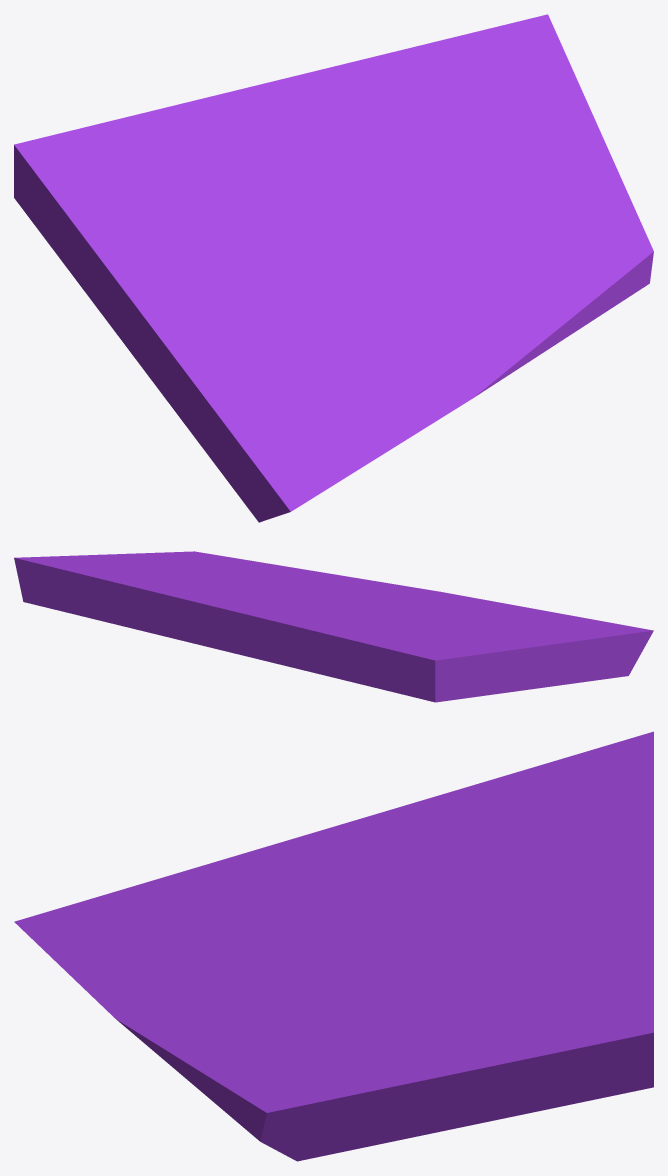
File: Window_151_0_chunks.fbx
3 renders of one model, top to bottom at view 1: azimuth 30°, elevation 25°; view 2: azimuth 150°, elevation 25°; view 3: azimuth 270°, elevation 25°, orthographic. The views are drawn at different scales.
Parts seen in each view (by area): view 1: Window_151_0_8, Window_151_0_3, Window_151_0_28, Window_151_0_30, Window_151_0_29, Window_151_0_15, Window_151_0_17, Window_151_0_25, Window_151_0_20, Window_151_0_6, Window_151_0_16, Window_151_0_26 (+10 smaller); view 2: Window_151_0_30, Window_151_0_28, Window_151_0_15, Window_151_0_33, Window_151_0_25, Window_151_0_32, Window_151_0_8, Window_151_0_3, Window_151_0_29, Window_151_0_17, Window_151_0_14, Window_151_0_20 (+13 smaller); view 3: Window_151_0_28, Window_151_0_3, Window_151_0_8, Window_151_0_4, Window_151_0_29, Window_151_0_30, Window_151_0_6, Window_151_0_20, Window_151_0_17, Window_151_0_16, Window_151_0_25, Window_151_0_26 (+10 smaller).
Part boxes in pixels (<box>): Window_151_0_8: <box>221,225,493,350</box>; Window_151_0_3: <box>419,94,612,265</box>; Window_151_0_28: <box>441,14,583,167</box>; Window_151_0_30: <box>203,53,387,160</box>; Window_151_0_29: <box>360,40,486,164</box>; Window_151_0_15: <box>62,208,201,443</box>; Window_151_0_17: <box>160,277,280,426</box>; Window_151_0_25: <box>14,147,182,246</box>; Window_151_0_20: <box>256,393,448,517</box>; Window_151_0_6: <box>500,234,646,352</box>; Window_151_0_16: <box>77,210,304,313</box>; Window_151_0_26: <box>344,163,502,244</box>; Window_151_0_30: <box>140,588,327,663</box>; Window_151_0_28: <box>14,555,196,631</box>; Window_151_0_15: <box>467,639,583,691</box>; Window_151_0_33: <box>297,622,436,687</box>; Window_151_0_25: <box>366,632,474,702</box>; Window_151_0_32: <box>276,622,377,682</box>; Window_151_0_8: <box>316,585,454,627</box>; Window_151_0_3: <box>76,554,322,593</box>; Window_151_0_29: <box>99,576,252,611</box>; Window_151_0_17: <box>460,621,602,657</box>; Window_151_0_14: <box>444,614,616,682</box>; Window_151_0_20: <box>469,597,653,654</box>; Window_151_0_28: <box>444,972,653,1109</box>; Window_151_0_3: <box>301,975,544,1119</box>; Window_151_0_8: <box>178,859,460,1027</box>; Window_151_0_4: <box>238,1061,499,1161</box>; Window_151_0_29: <box>456,929,653,1008</box>; Window_151_0_30: <box>522,839,653,942</box>; Window_151_0_6: <box>167,1024,323,1122</box>; Window_151_0_20: <box>14,898,153,1005</box>; Window_151_0_17: <box>163,832,402,900</box>; Window_151_0_16: <box>305,774,533,913</box>; Window_151_0_25: <box>499,733,648,832</box>; Window_151_0_26: <box>361,927,490,1017</box>.
Bounding box in the file's own units: 1054 × 375 × 947.
